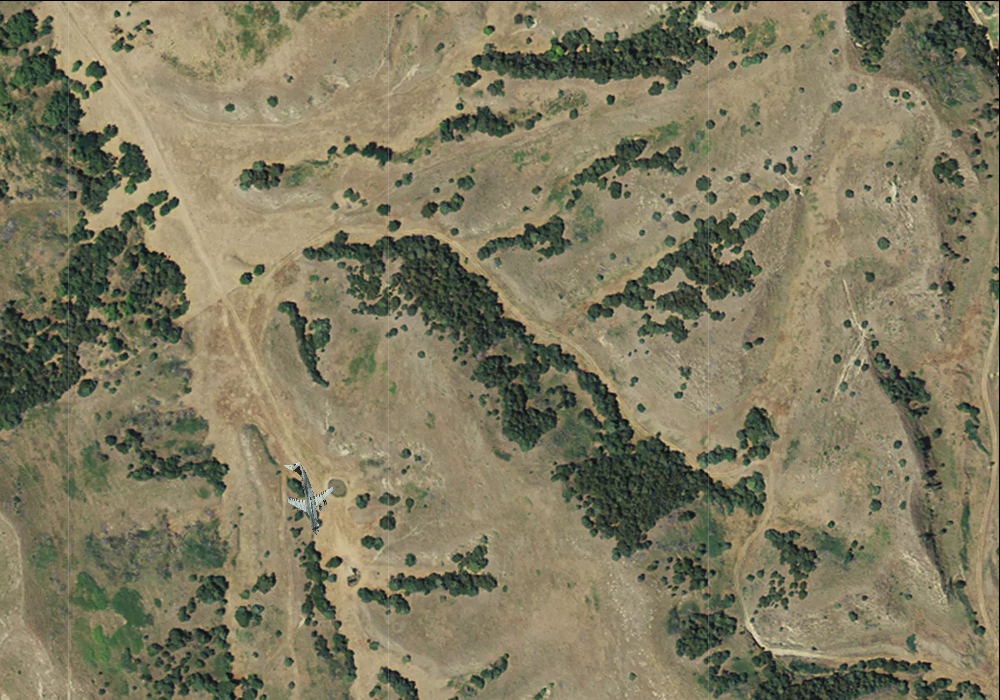plane: (266, 454, 343, 541)
